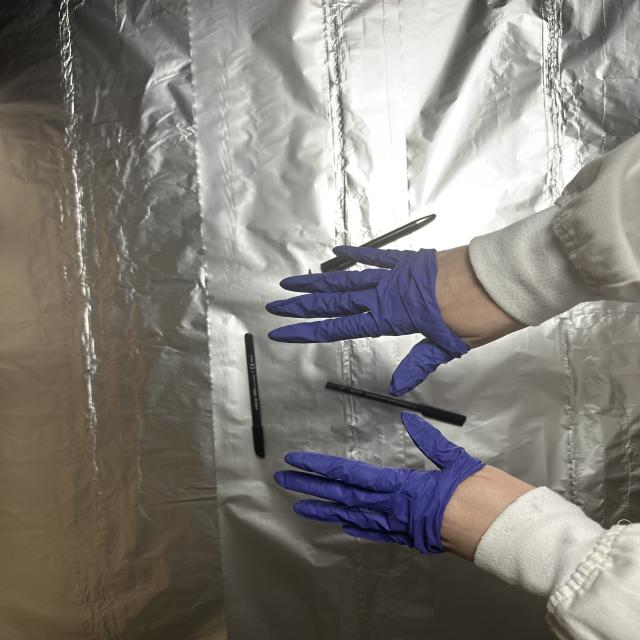glove_partial: (266, 406, 542, 566), (267, 242, 529, 398)
